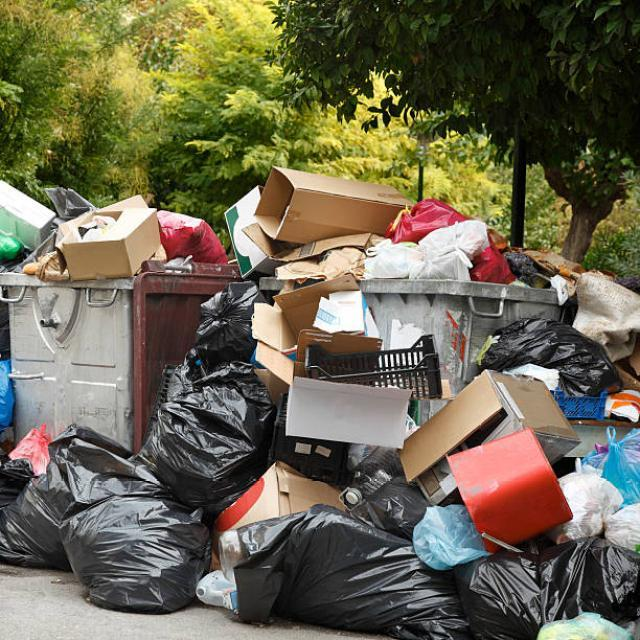garbage: (282, 279, 640, 640), (0, 415, 223, 619), (148, 274, 284, 506), (1, 178, 230, 282), (216, 159, 408, 280), (369, 197, 582, 294)
